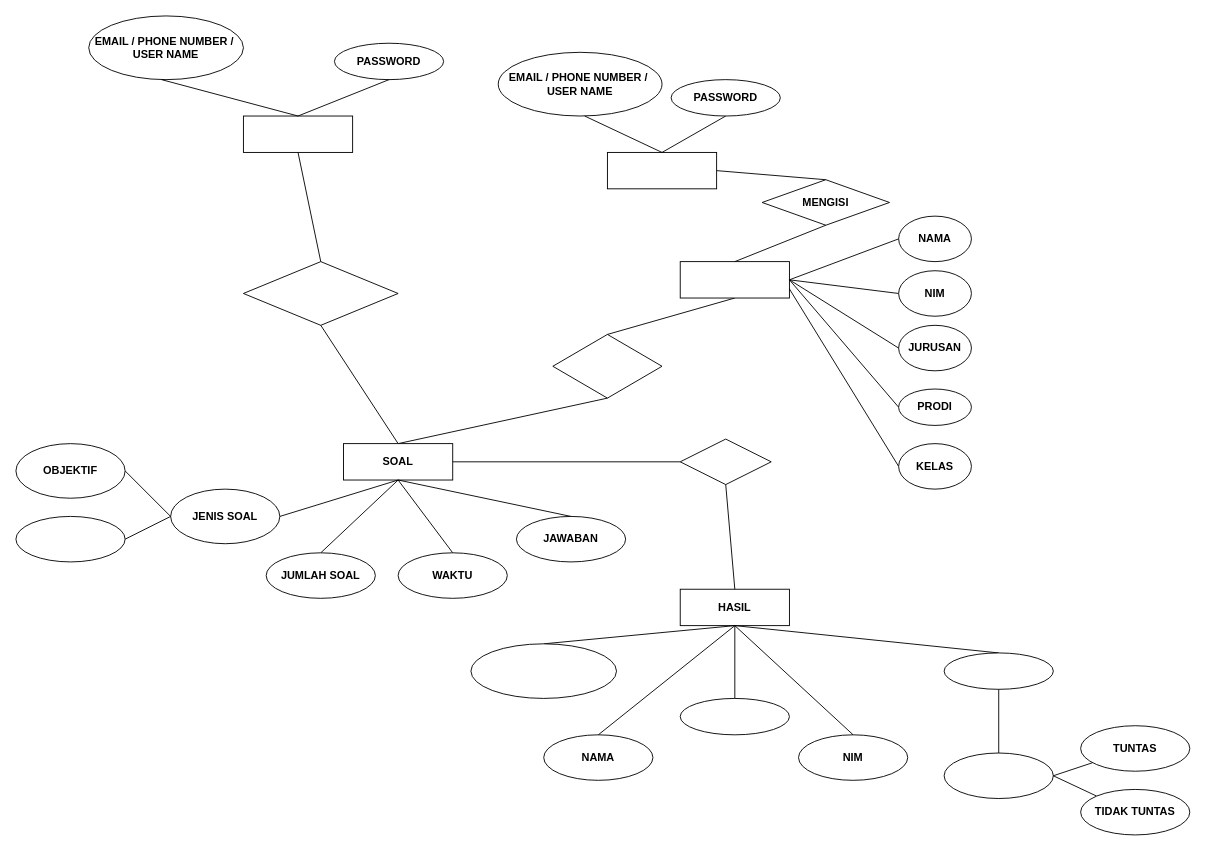
Some shapes in this 1206 by 851 pixel diagram are drawn without their labels. The shapes that lost their labels are listed below. From the top down, each one's box as (x1, y1, x2, y2) in pixels, then its label:
(243, 115, 353, 152): ADMIN
(607, 152, 717, 189): USER / PESERTA
(243, 261, 398, 325): UPLOAD AND MANAGE
(679, 261, 789, 298): DATA DIRI PESERTA
(552, 334, 662, 398): MENGAKSES
(679, 438, 771, 485): MELIHAT
(15, 516, 125, 562): ESSAY
(470, 643, 617, 698): JUMLAH JAWABAN BENAR / JUMLAH TOTAL SOAL
(943, 652, 1053, 689): NILAI
(679, 698, 789, 735): TANGGAL
(943, 752, 1053, 799): STATUS
